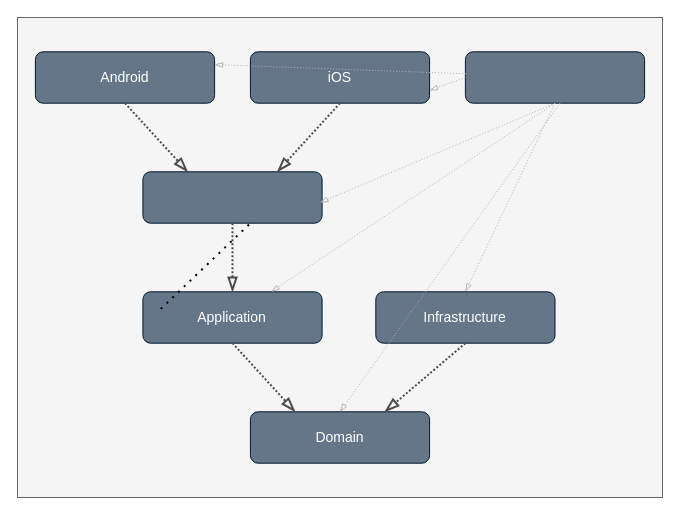
This 680x515 diagram has some shape labels left out. Each missing label, with the centre of its shape:
Core (UI Common): the point at 232,197
Tests: the point at 554,77
